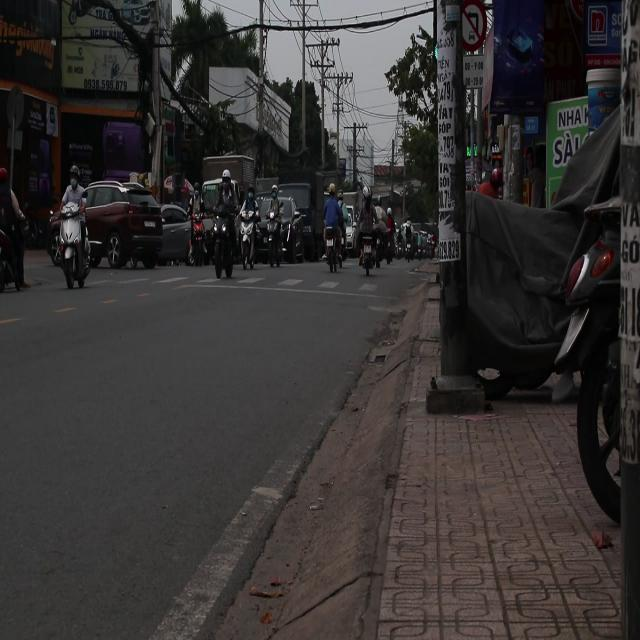car: (84, 177, 165, 273), (160, 203, 193, 265)
motorbike: (48, 199, 96, 288), (208, 211, 232, 281), (187, 212, 211, 267), (322, 220, 344, 280), (262, 214, 282, 276), (358, 228, 378, 274), (241, 216, 257, 271)
truck: (202, 154, 254, 206)
